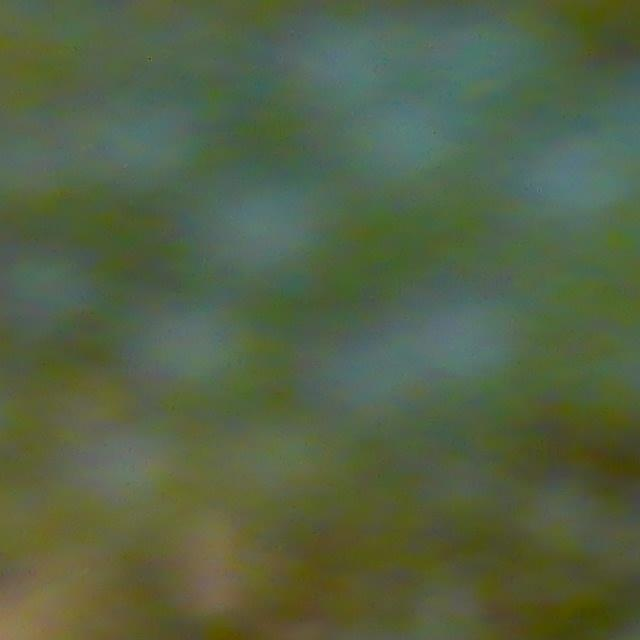SeaGrape: (193, 180, 373, 323), (121, 286, 287, 409), (335, 101, 488, 234), (505, 123, 640, 269), (0, 232, 124, 376), (84, 83, 210, 224)
